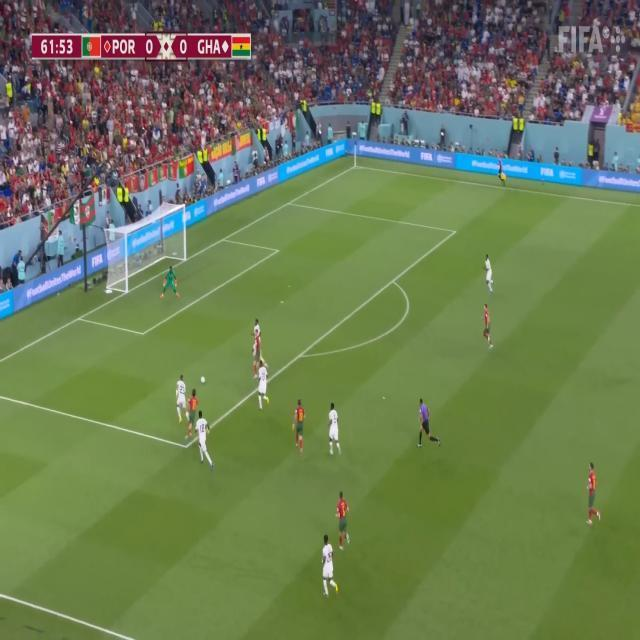football: (190, 373, 215, 387)
